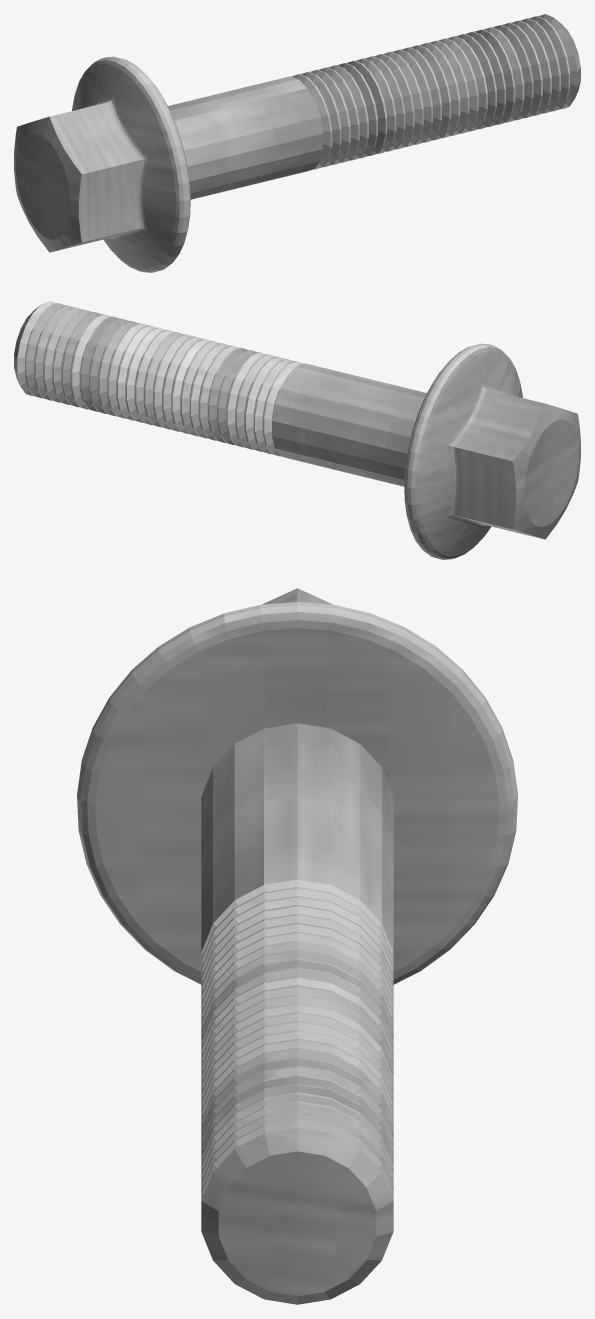
File: v_battery_bolt_Link_metal.dae
The picture shows the model from 3 angles, top to bottom: view 1: azimuth 30°, elevation 25°; view 2: azimuth 150°, elevation 25°; view 3: azimuth 270°, elevation 25°; orthographic projection. The views are drawn at different scales.
Visible parts, largest first — view 1: v_battery_bolt_Link; view 2: v_battery_bolt_Link; view 3: v_battery_bolt_Link.
Boxes of the visible parts, bbox=[...] form: v_battery_bolt_Link: bbox=[14, 14, 580, 272]; v_battery_bolt_Link: bbox=[14, 301, 580, 559]; v_battery_bolt_Link: bbox=[77, 588, 517, 1304].
Bounding box in the file's own units: 0.0368 × 0.0136 × 0.0135.
